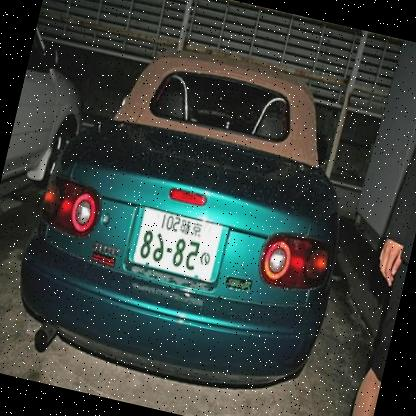car: (0, 12, 385, 414)
